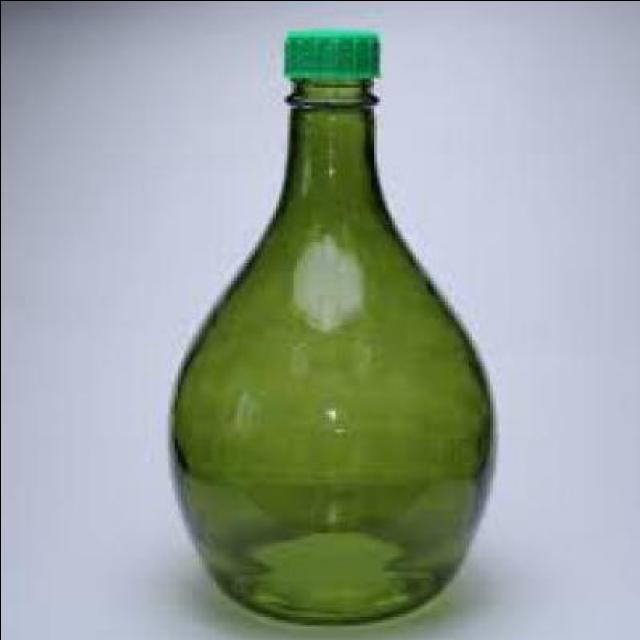kaca: (170, 77, 496, 622)
